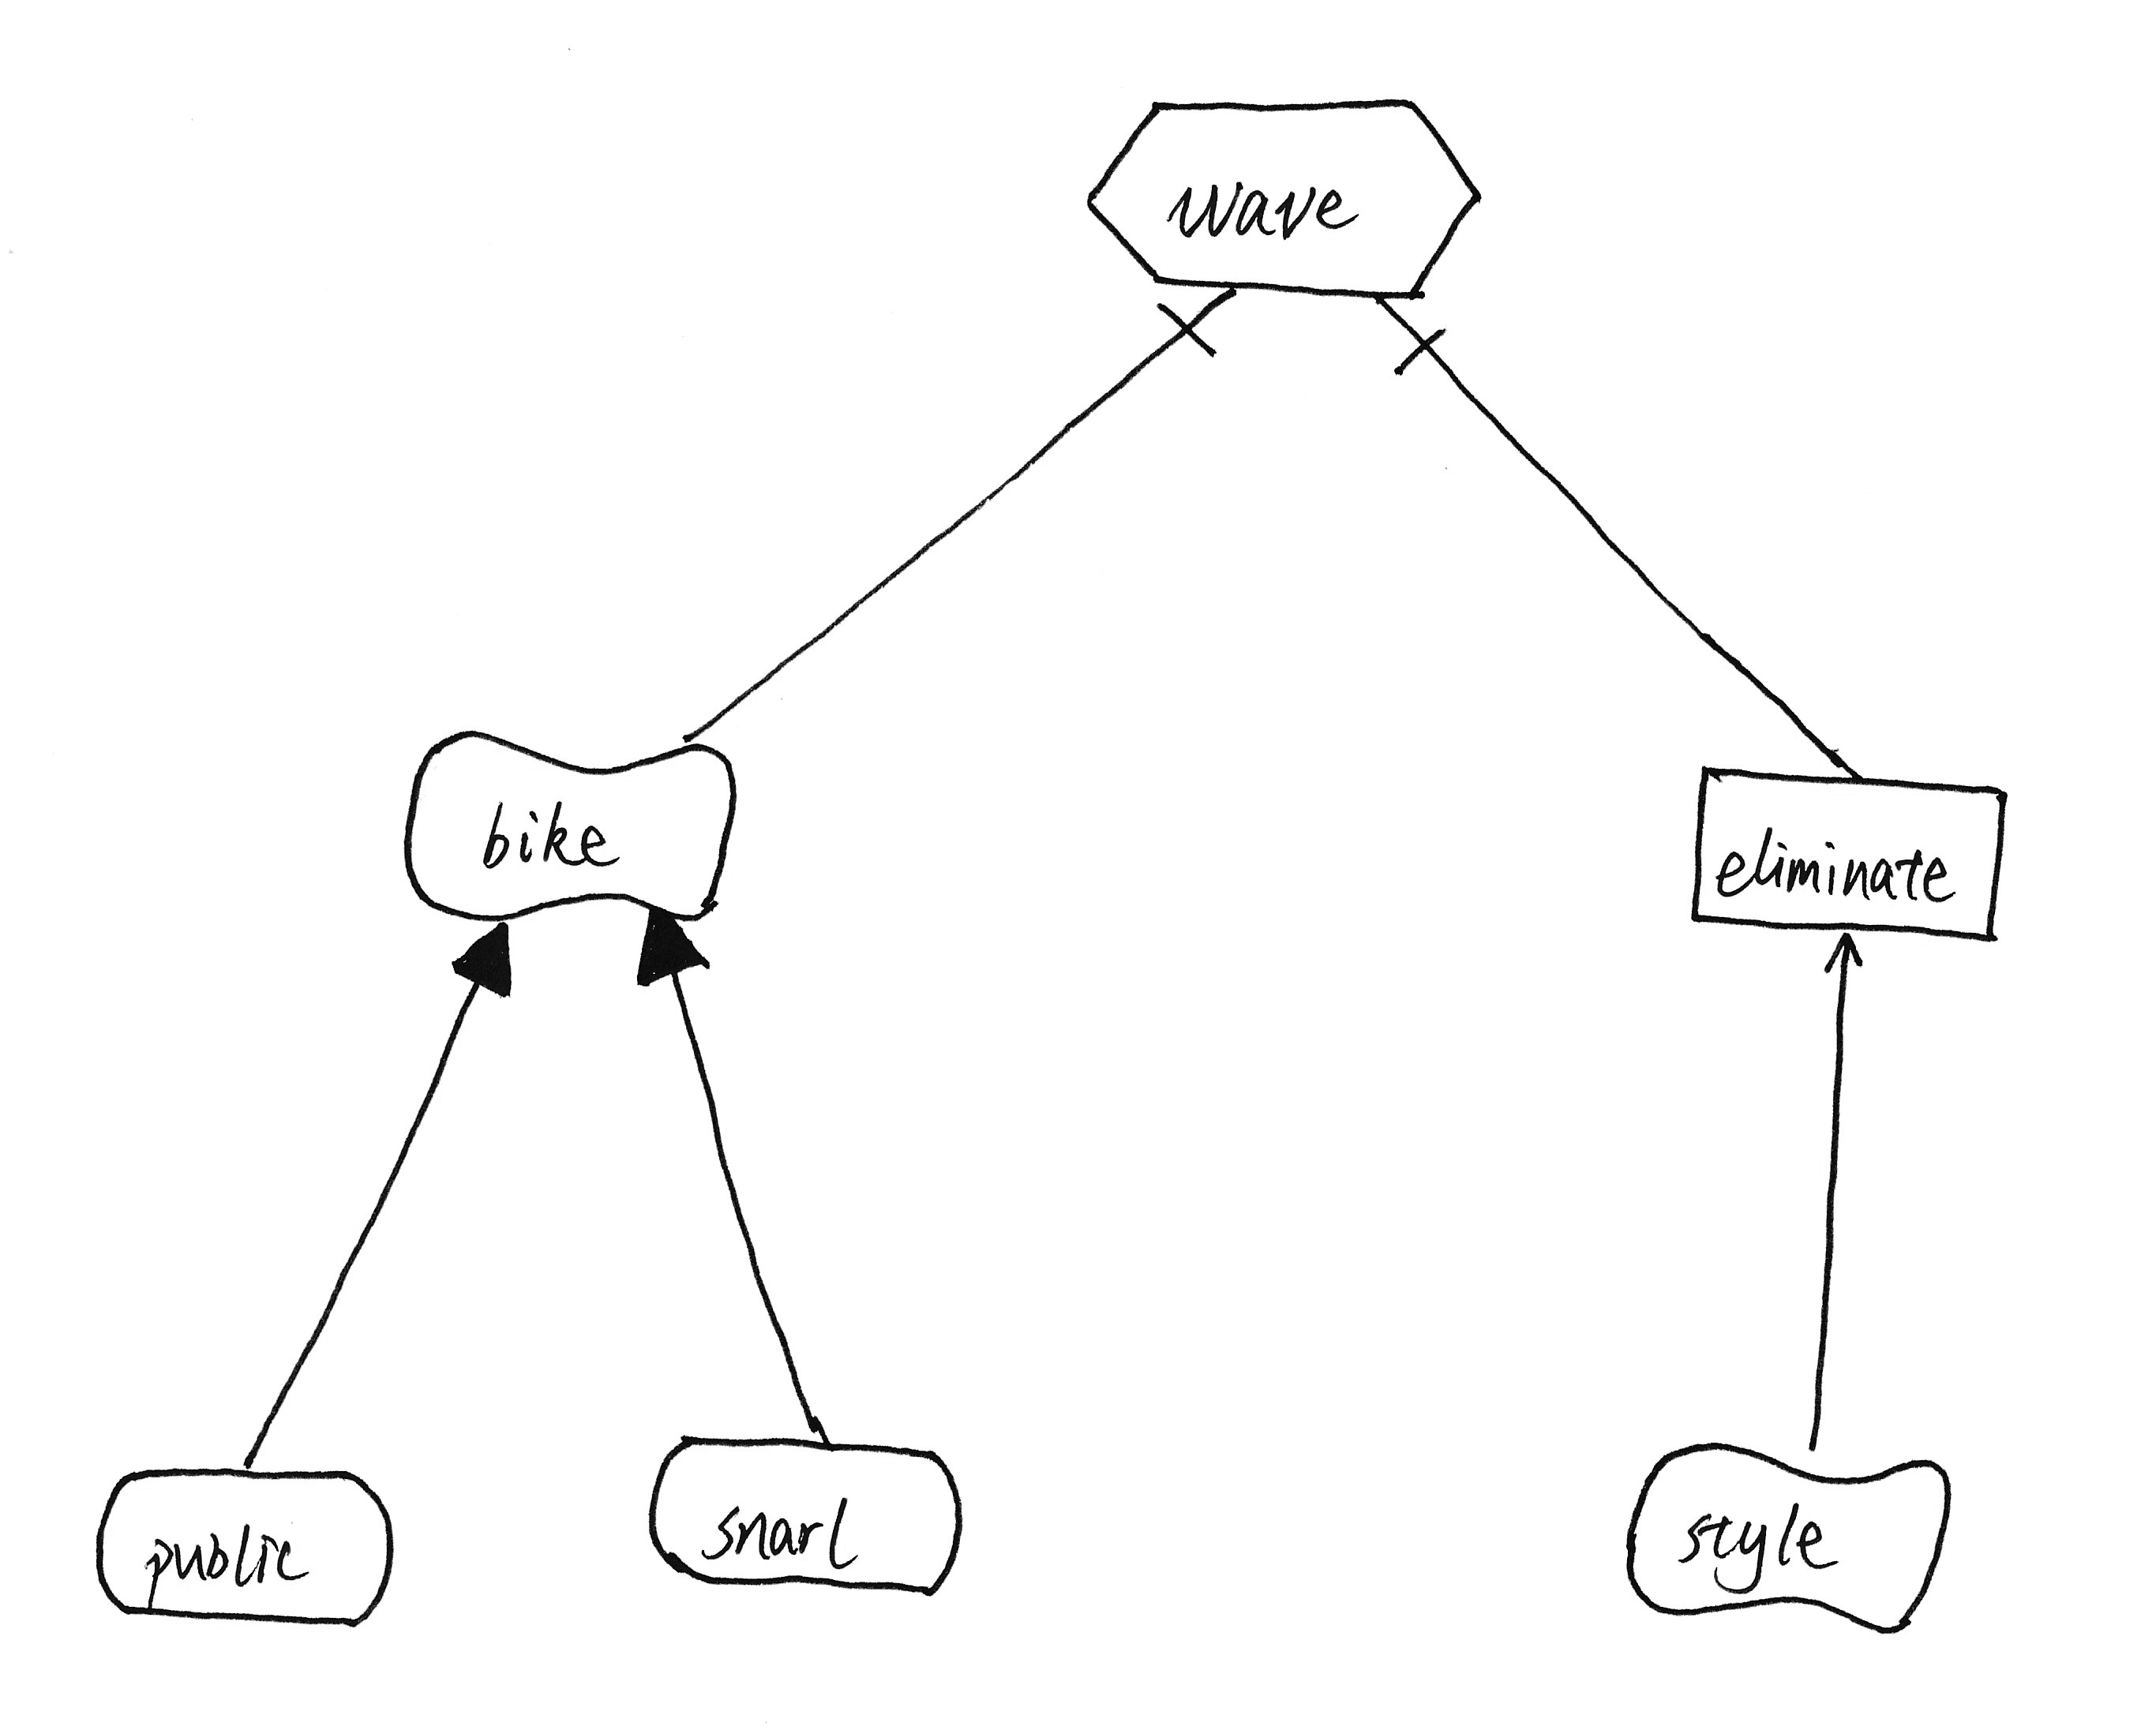and: (1134, 284, 1250, 371), (1374, 297, 1471, 388)
arrow: (1805, 923, 1879, 996)
goal: (634, 1416, 975, 1606), (81, 1449, 404, 1638)
or: (429, 913, 537, 1012), (620, 906, 717, 994)
quality: (1607, 1423, 1967, 1647), (387, 718, 754, 936)
resource: (1667, 752, 2029, 966)
task: (1070, 78, 1501, 318)
